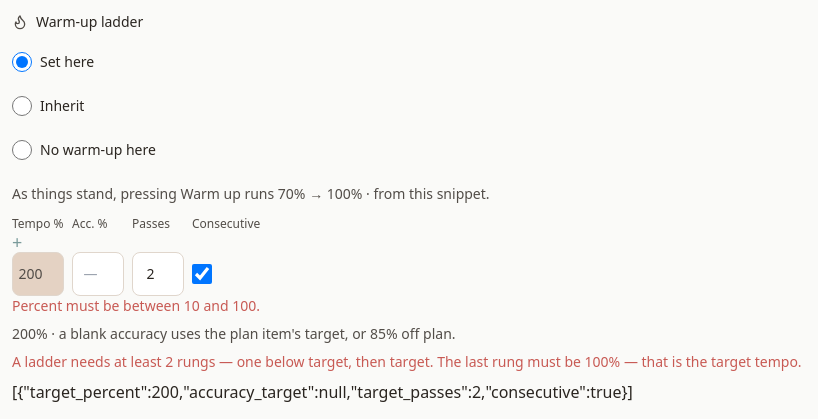
it: errors are the host's cue, shown on its Save › Inherit and No warm-up here are always valid, whatever the rungs were
Expected: the message "Percent must be between 10 and 100." is shown, top-left (12, 296), bottom-right (260, 315)
Click the radio button labelled "Inherit" at (22, 106), box top-left (12, 96), bottom-right (32, 116)
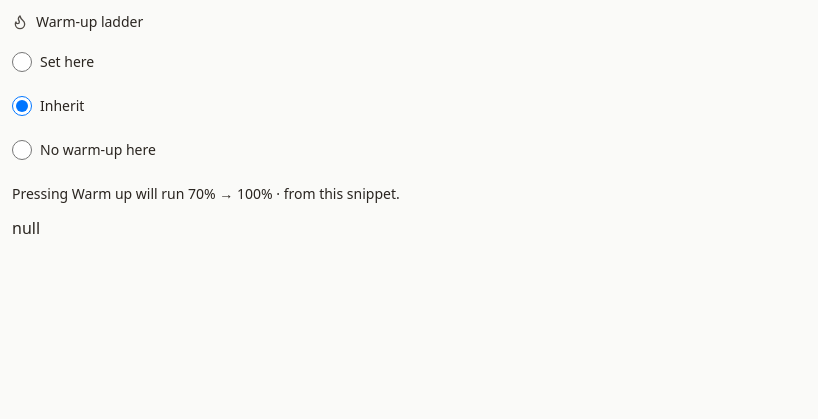
Result: the message "Percent must be between 10 and 100." is gone
